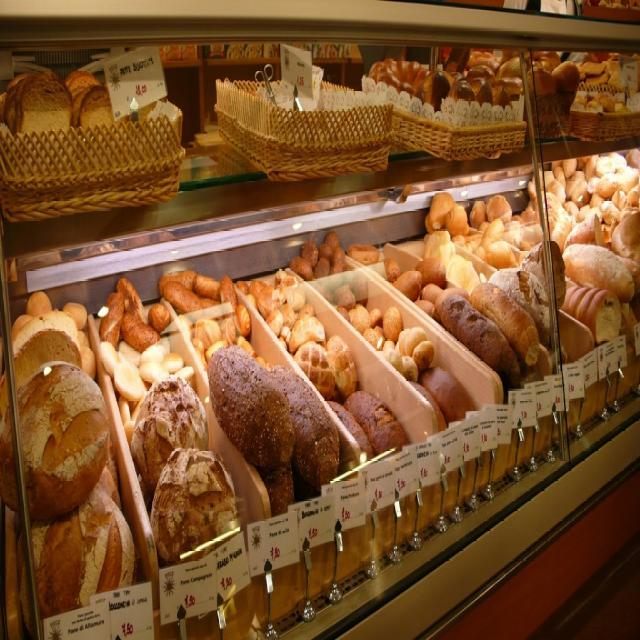Bread: (0, 145, 639, 626), (11, 346, 107, 524), (0, 66, 130, 133), (370, 56, 512, 112), (462, 51, 580, 97), (575, 62, 629, 94), (576, 92, 631, 110)
